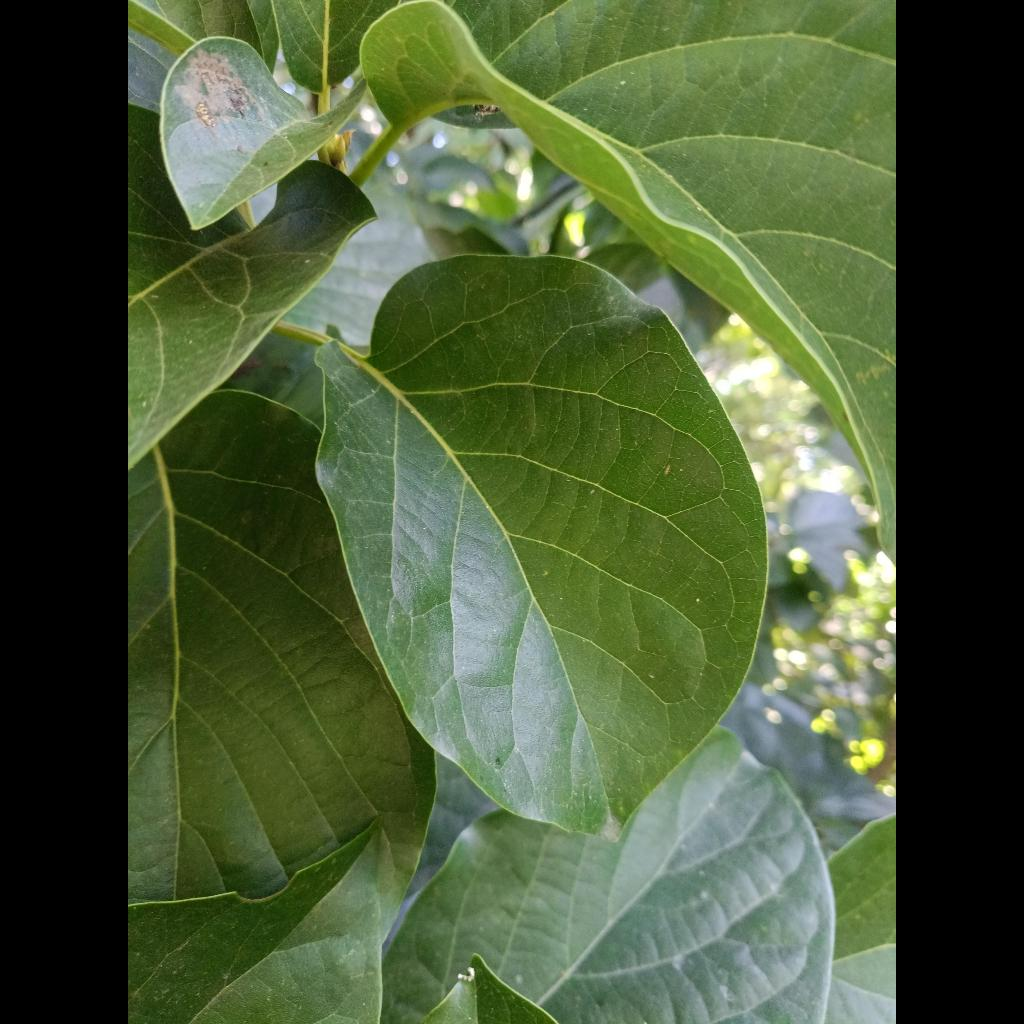hoja_sana: (316, 256, 765, 837)
